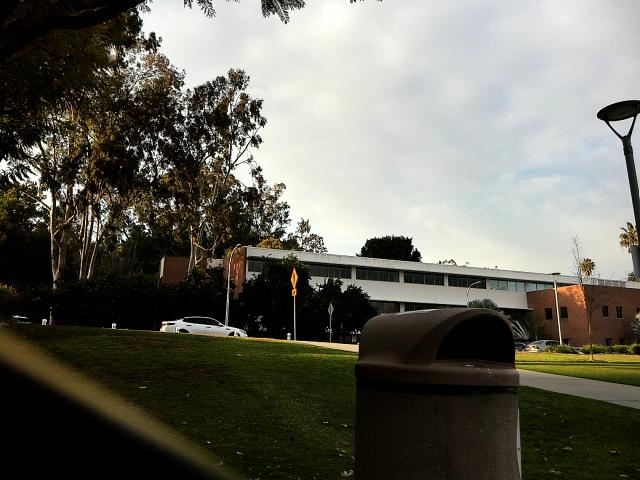trashcan: (346, 299, 534, 480)
